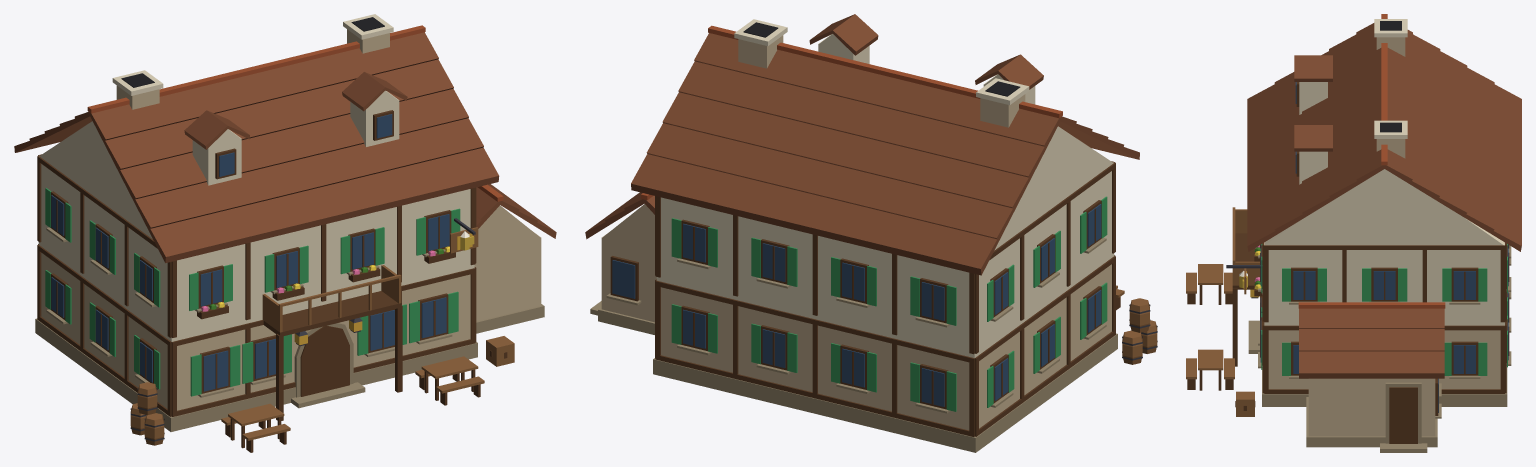
Rendered from Tavern.fbx.
3 renders of one model, left to right at view 1: azimuth 30°, elevation 25°; view 2: azimuth 150°, elevation 25°; view 3: azimuth 270°, elevation 25°, orthographic. The views are drawn at different scales.
Visible parts, largest first — view 1: Tavern; view 2: Tavern; view 3: Tavern.
Part boxes in pixels (left/top/right/bottom): Tavern: left=14, top=14, right=556, bottom=452; Tavern: left=585, top=14, right=1157, bottom=452; Tavern: left=1186, top=14, right=1521, bottom=452.
Bounding box in the file's own units: 14.63 × 9.16 × 10.6.
